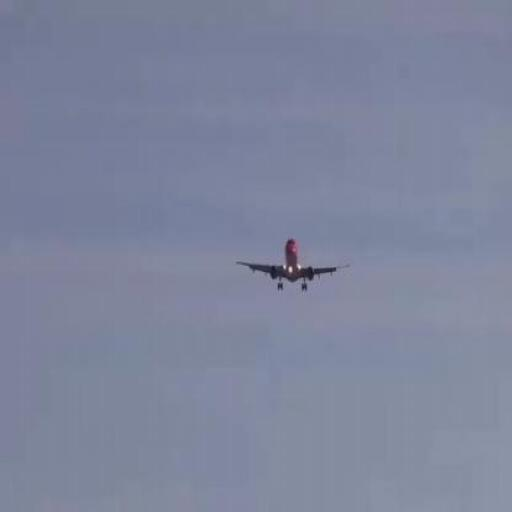aircraft: (236, 237, 352, 291)
